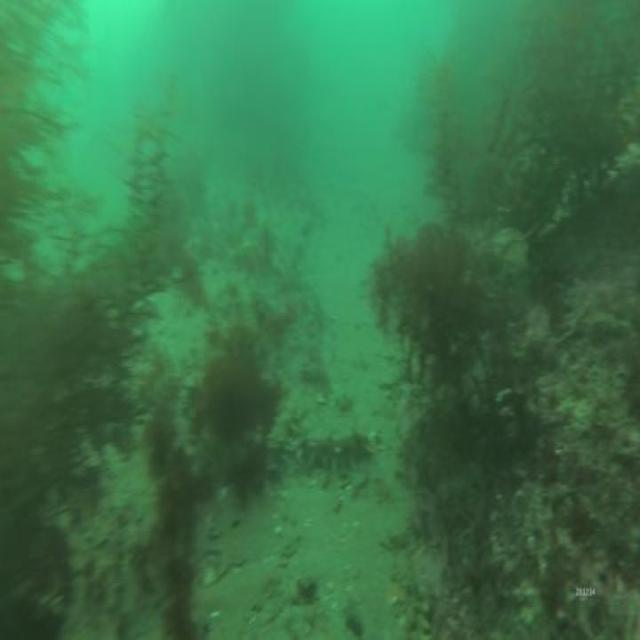holothurian: (295, 425, 381, 493)
waterweeds: (0, 0, 188, 640), (367, 14, 640, 405), (145, 306, 282, 522)
